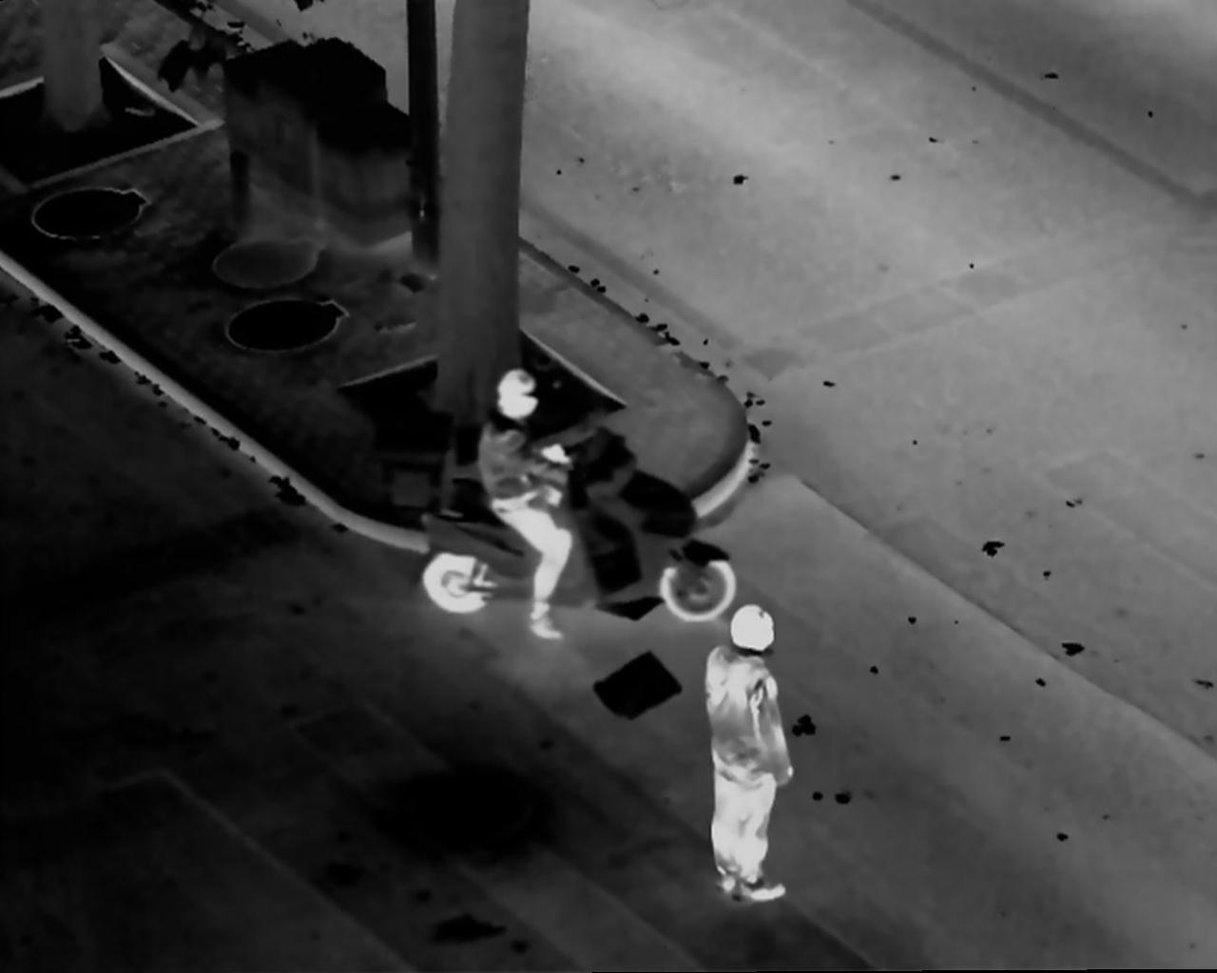person: (475, 363, 586, 645), (697, 602, 798, 904)
